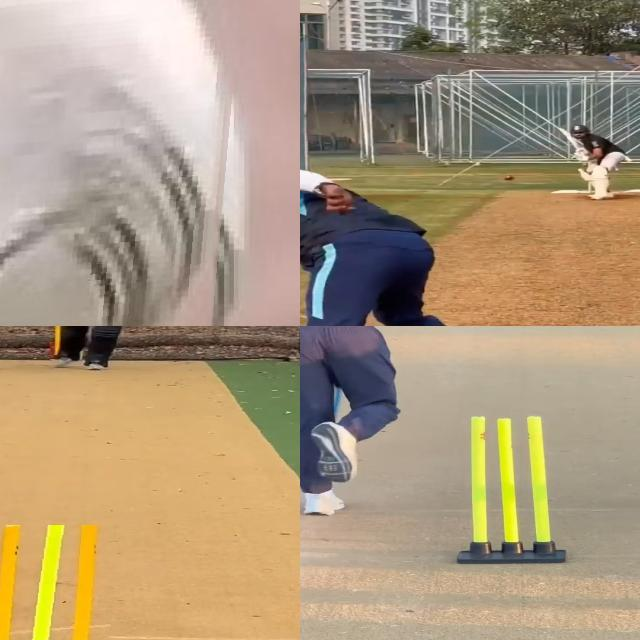Cricket ball: (0, 0, 250, 326), (504, 175, 514, 181)
Stumps: (456, 417, 566, 564), (0, 525, 121, 640)
